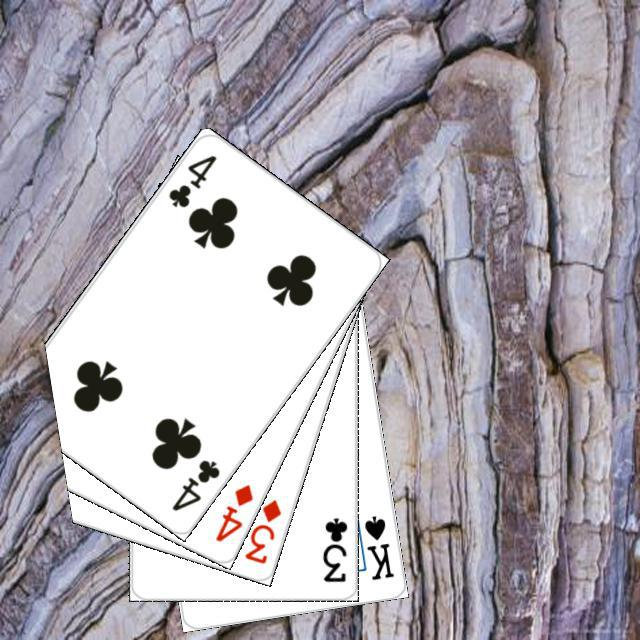3c: (317, 512, 349, 583)
3d: (239, 494, 283, 566)
4c: (163, 150, 219, 210), (166, 454, 222, 513)
4d: (210, 479, 255, 544)
Ks: (359, 511, 396, 582)
